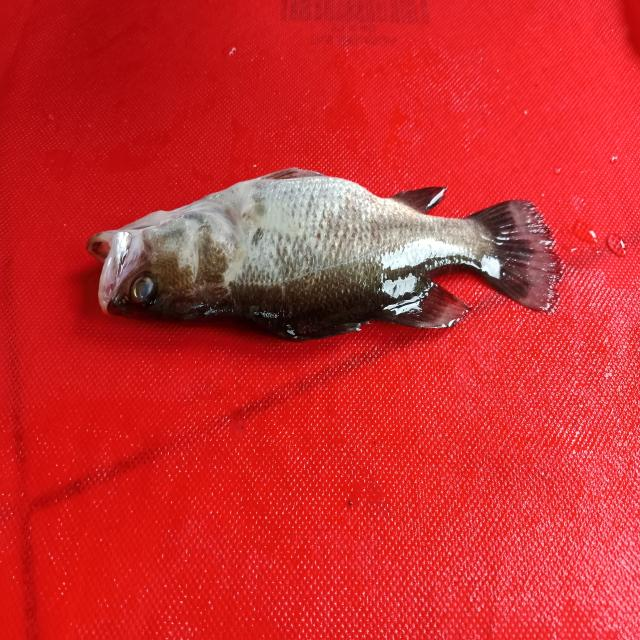ikan: (62, 144, 567, 358)
